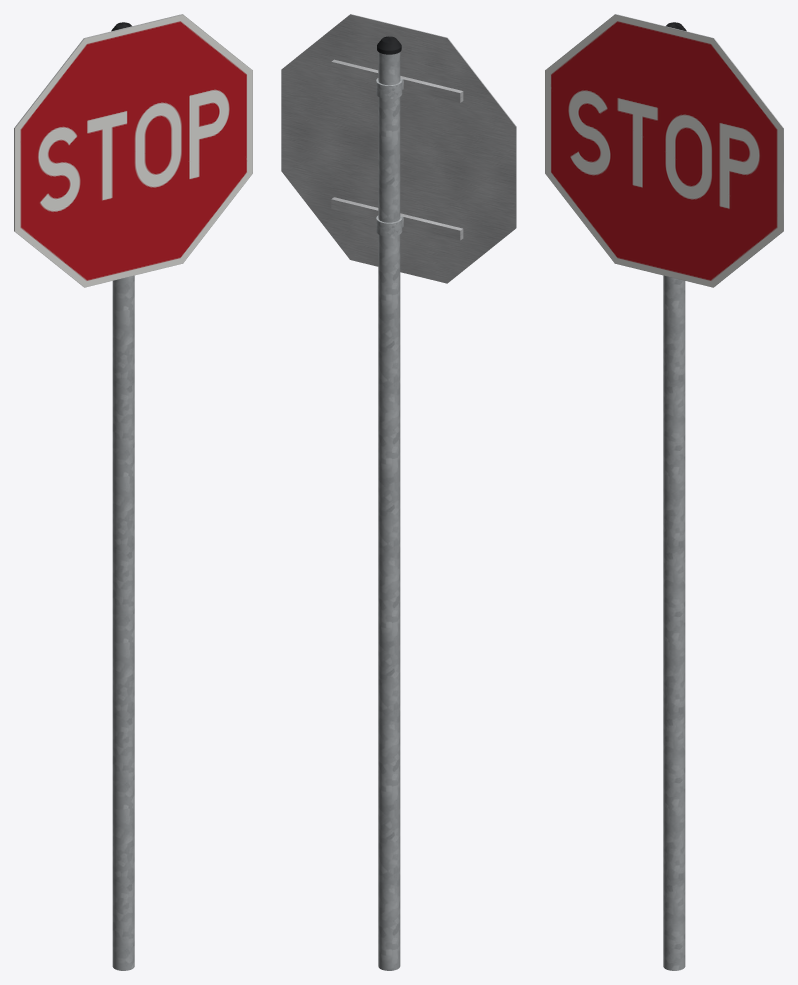
Rendered from stop-sign.glb.
3 views of the same model, side by side, from view 1: azimuth 30°, elevation 25°; view 2: azimuth 150°, elevation 25°; view 3: azimuth 330°, elevation 25° (orthographic).
Parts seen in each view (by area): view 1: Stop sign assembly; view 2: Stop sign assembly; view 3: Stop sign assembly.
Part boxes in pixels (left/top/right/bottom): Stop sign assembly: left=14, top=14, right=252, bottom=970; Stop sign assembly: left=281, top=14, right=516, bottom=970; Stop sign assembly: left=545, top=14, right=783, bottom=970.
Bounding box in the file's own units: 0.75 × 2.85 × 0.091.
4 materials, 4 textured.
